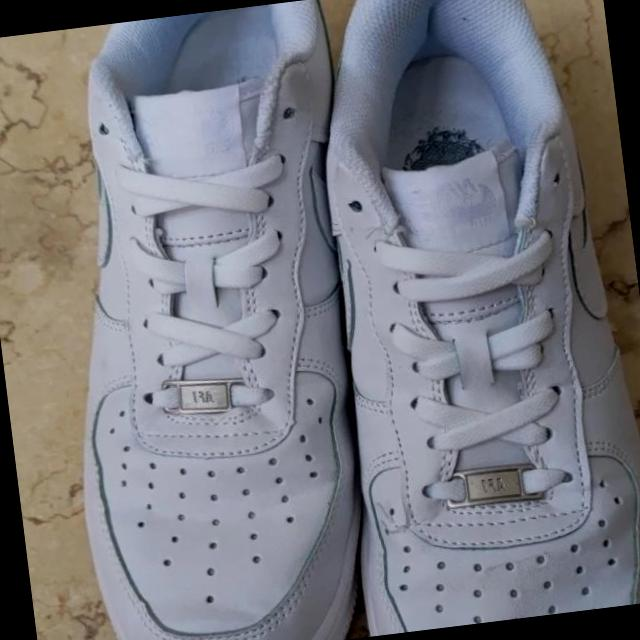nike_fake_airforce: (21, 3, 401, 640), (286, 0, 640, 637), (297, 0, 623, 403)
